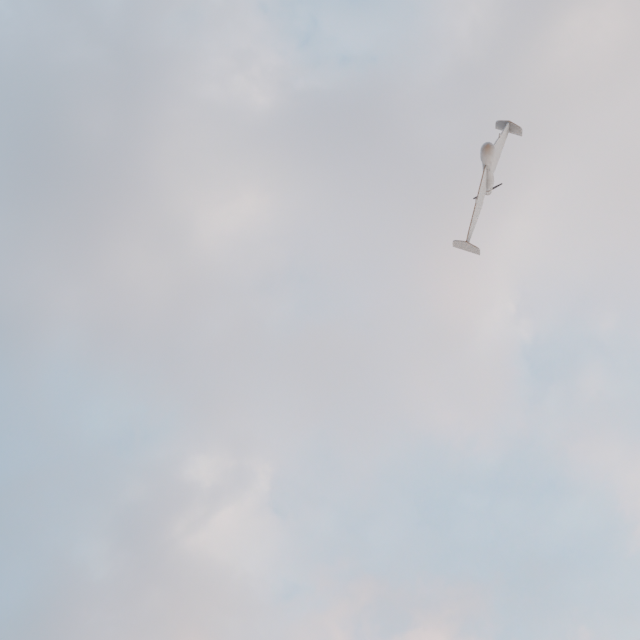shahed: (452, 120, 522, 255)
